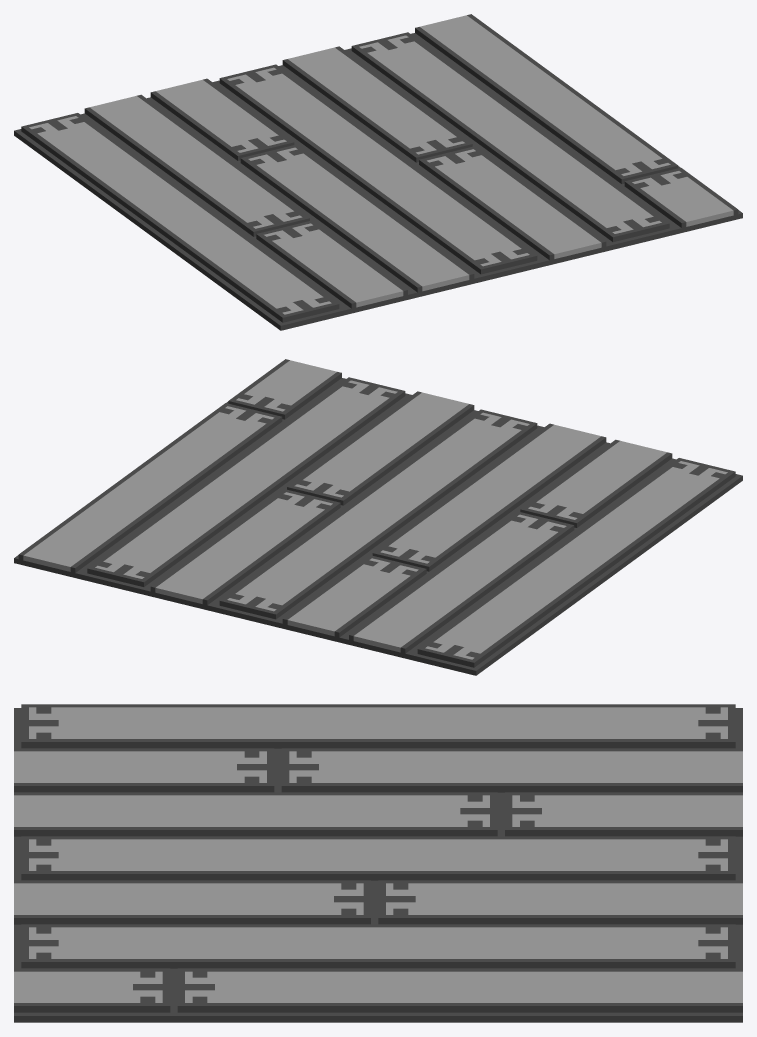
Rendered from Floor.obj.
The picture shows the model from 3 angles, top to bottom: view 1: azimuth 30°, elevation 25°; view 2: azimuth 150°, elevation 25°; view 3: azimuth 270°, elevation 25°; orthographic projection. The views are drawn at different scales.
Size of the model in its own units: 9.8 by 0.2 by 9.8.
